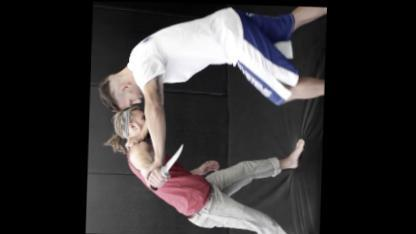knife: (146, 139, 188, 192)
